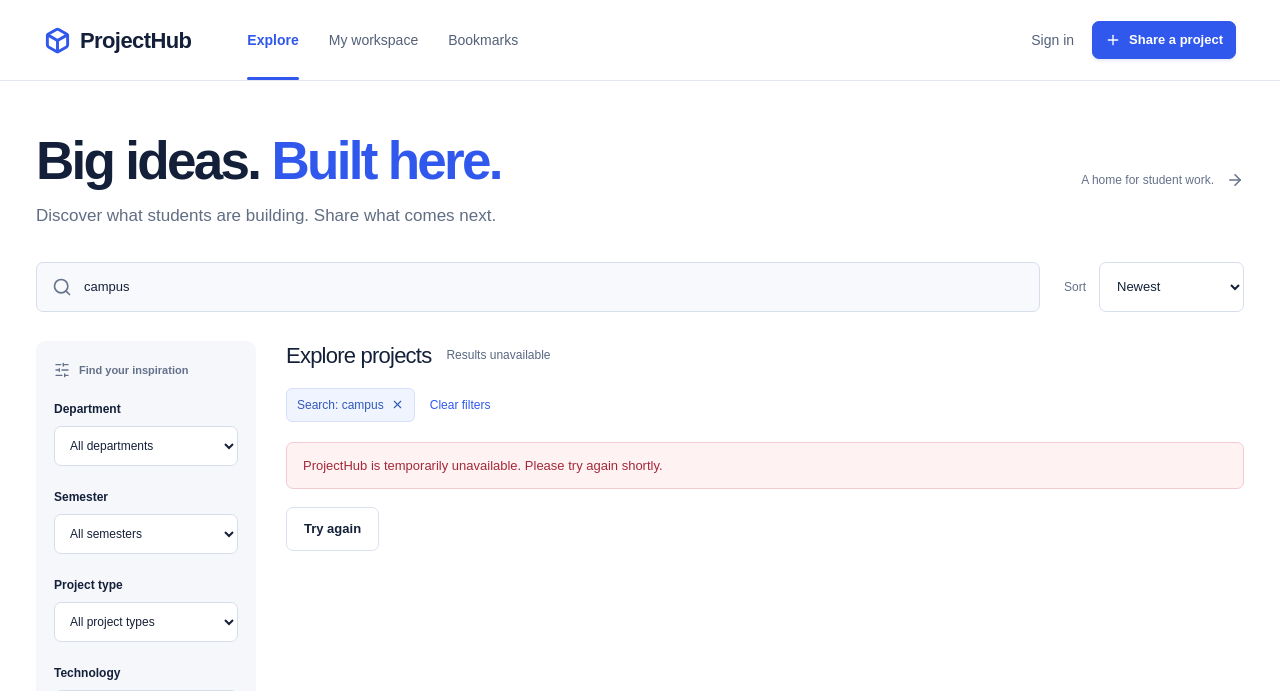
Test: failed filtered searches retain a clear action and recover on retry
This screenshot has width=1280, height=691.
Check: the message "ProjectHub is temporarily unavailable. Please try again shortly." is shown, box 286,442 -> 1244,489
Check: the button "Clear filters" is shown, box 423,389 -> 497,421
Click the button "Try again": (333, 529) 286,507 -> 379,551
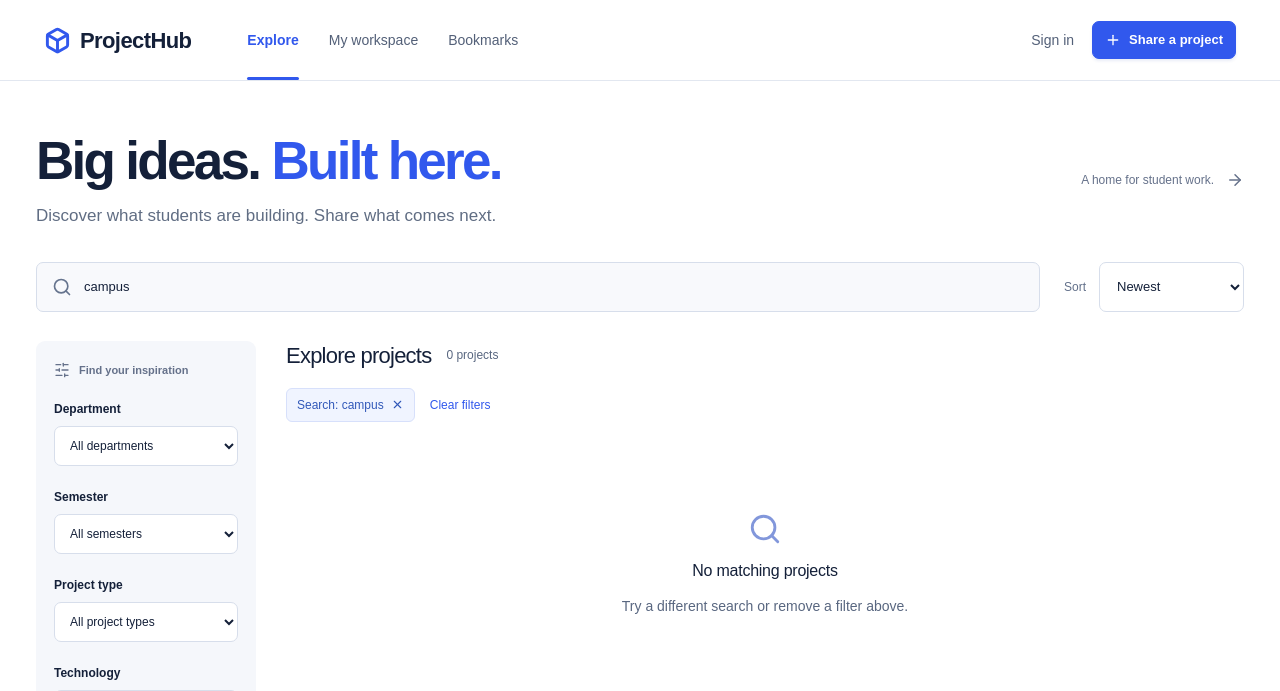
Check: the heading "No matching projects" is shown, box 692,562 -> 838,580
